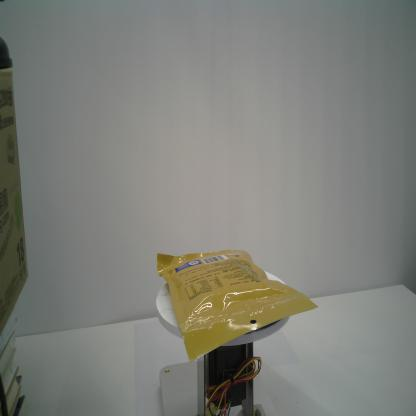Dried Fruit: (155, 247, 319, 364)
